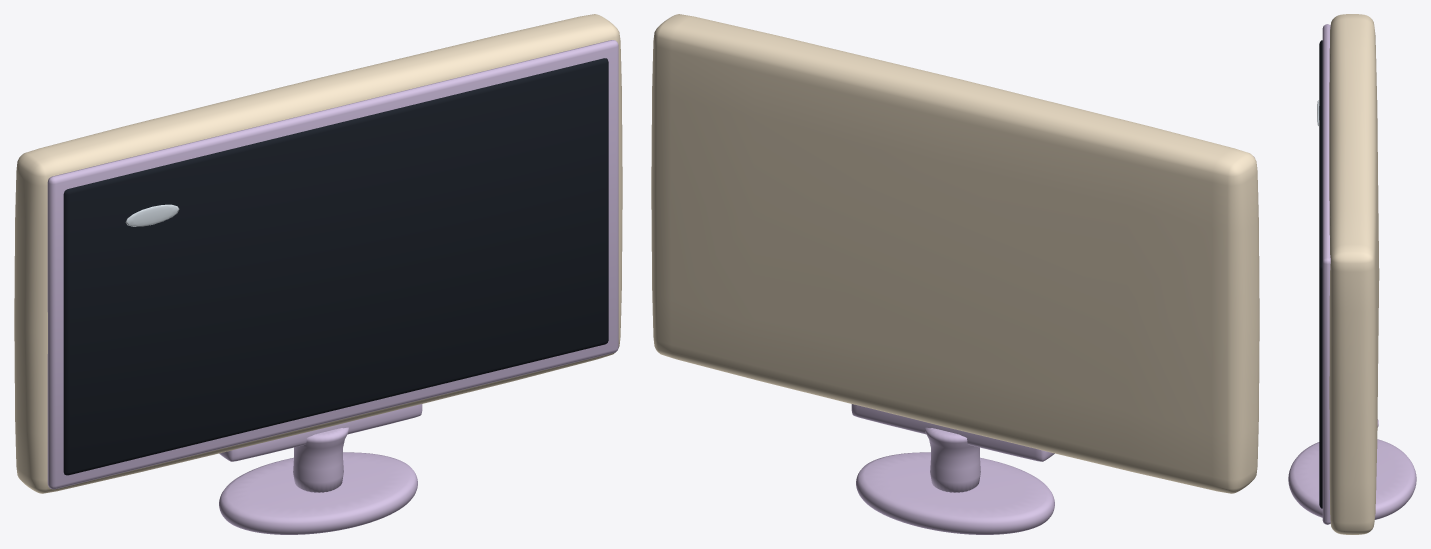
The picture shows the model from 3 angles, left to right: view 1: azimuth 30°, elevation 25°; view 2: azimuth 150°, elevation 25°; view 3: azimuth 270°, elevation 25°; orthographic projection. The views are drawn at different scales.
Visible parts, largest first — view 1: body; view 2: body; view 3: body.
Boxes of the visible parts, bbox=[...] form: body: bbox=[14, 14, 622, 534]; body: bbox=[651, 14, 1259, 534]; body: bbox=[1288, 14, 1416, 534].
Size of the model in its own units: 1.1 by 0.74 by 0.24.
